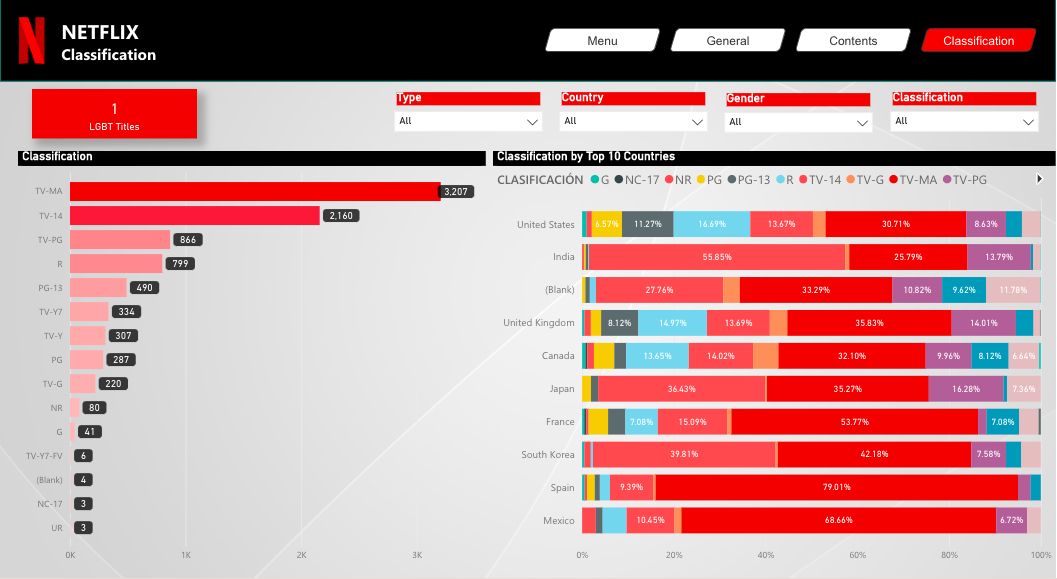

The page's visual inventory and layout, read from the dashboard file:
{"tool":"powerbi","page":{"name":"Classification","canvas":[1280,720],"ordinal":3},"visuals":[{"type":"shape","box":[0,18.3,1280,100],"z":0},{"type":"clusteredBarChart","title":"Classification","fields":{"Category":["Rate4.ID_Rate"],"Y":["Show1.Available Shows"]},"box":[22.4,202.3,567.1,507.7],"z":1000},{"type":"hundredPercentStackedBarChart","title":"Classification by Top 10 Countries","fields":{"Category":["Country3.Country"],"Series":["Rate4.ID_Rate"],"Y":["Show1.Available Shows"]},"box":[598.2,202.3,681.8,507.7],"z":2000},{"type":"slicer","fields":{"Values":["Type2.type"]},"box":[467.8,126.3,200.4,60.3],"z":3000},{"type":"slicer","fields":{"Values":["Country3.Country"]},"box":[668.2,126.3,200.4,60.3],"z":4000},{"type":"slicer","fields":{"Values":["Rate4.ID_Rate"]},"box":[1068.8,126.5,200.4,59.9],"z":5000},{"type":"card","fields":{"Values":["Medidas.Títulos Contenido LGBT"]},"box":[38.3,126.7,200.4,59.9],"z":6000},{"type":"pageNavigator","box":[659.1,53.5,600,29.6],"z":7000},{"type":"image","box":[0,34.7,76.1,67.2],"z":8000},{"type":"slicer","fields":{"Values":["Listed_in5.1stlisted_in"]},"box":[868.5,126.8,200.4,59.3],"z":9000},{"type":"textbox","box":[69.1,34.6,263.9,67.4],"z":10000}]}

Visuals, with their boxes in screenshot pixels (x1, y1, x2, y2), scaled from the page's 1280x720 canvas onto the 1057x579 screenshot:
shape: bbox=(0, 15, 1056, 95)
"Classification" clusteredBarChart: bbox=(18, 163, 487, 571)
"Classification by Top 10 Countries" hundredPercentStackedBarChart: bbox=(494, 163, 1056, 571)
slicer - Type2.type: bbox=(386, 102, 552, 150)
slicer - Country3.Country: bbox=(552, 102, 717, 150)
slicer - Rate4.ID_Rate: bbox=(883, 102, 1048, 150)
card - Medidas.Títulos Contenido LGBT: bbox=(32, 102, 197, 150)
pageNavigator: bbox=(544, 43, 1040, 67)
image: bbox=(0, 28, 63, 82)
slicer - Listed_in5.1stlisted_in: bbox=(717, 102, 883, 150)
textbox: bbox=(57, 28, 275, 82)
